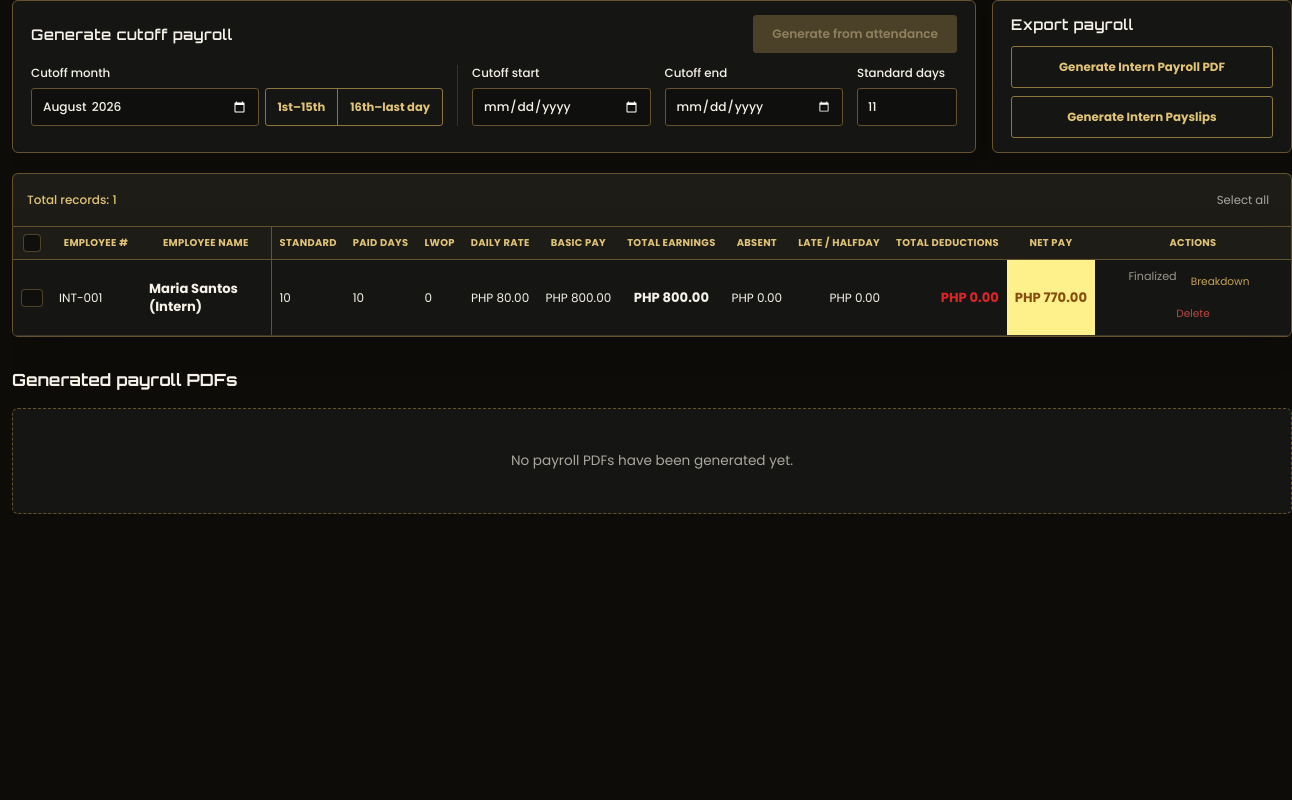
Test: PayrollWorkspace › generates an intern payroll PDF for the selected cutoff and shows the link list
Step 1. Click the button "Generate Intern Payroll PDF" → (1142, 67), box [1011,46,1273,88]
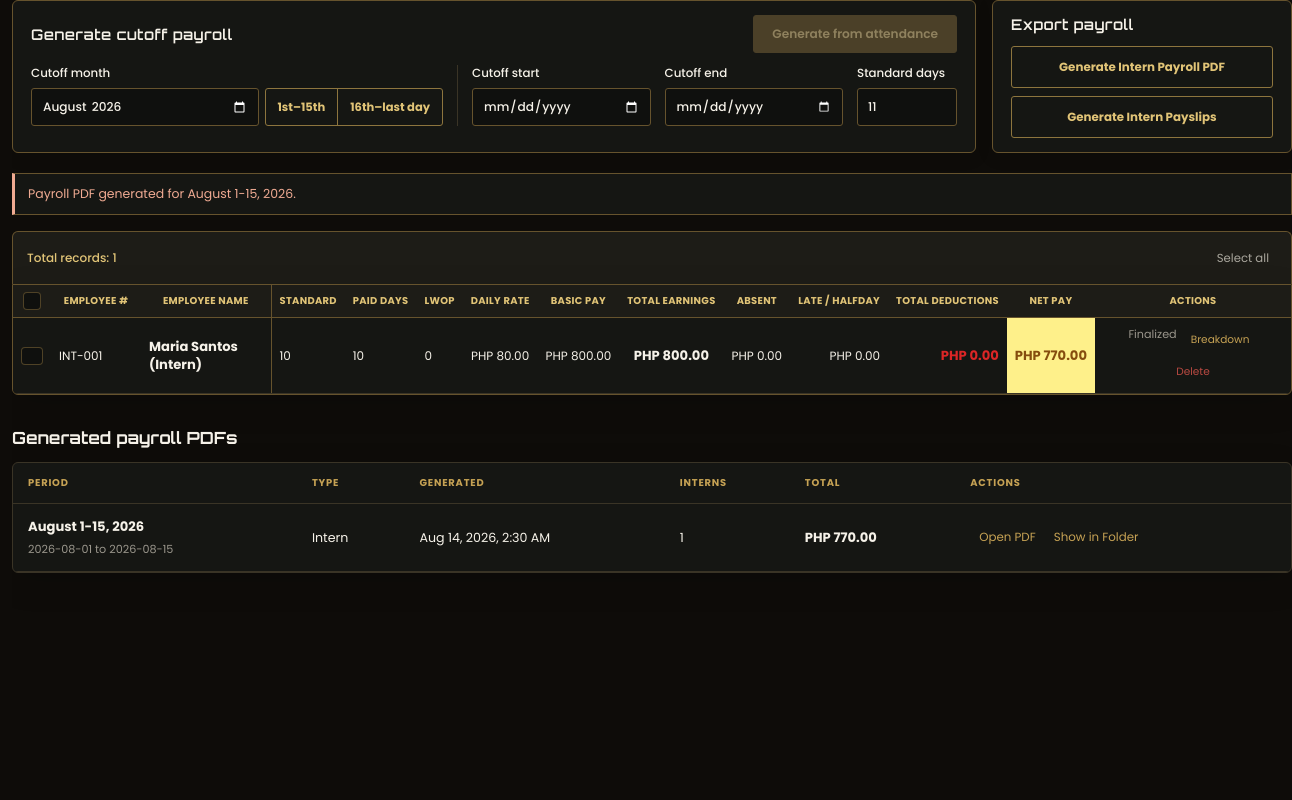
Result: the text "Payroll PDF generated for August 1-15, 2026." is shown at [12,173,1291,215]
Result: the text "August 1-15, 2026" is shown at [28,517,144,536]
Result: the button "Open PDF" is shown at [970,520,1045,556]
